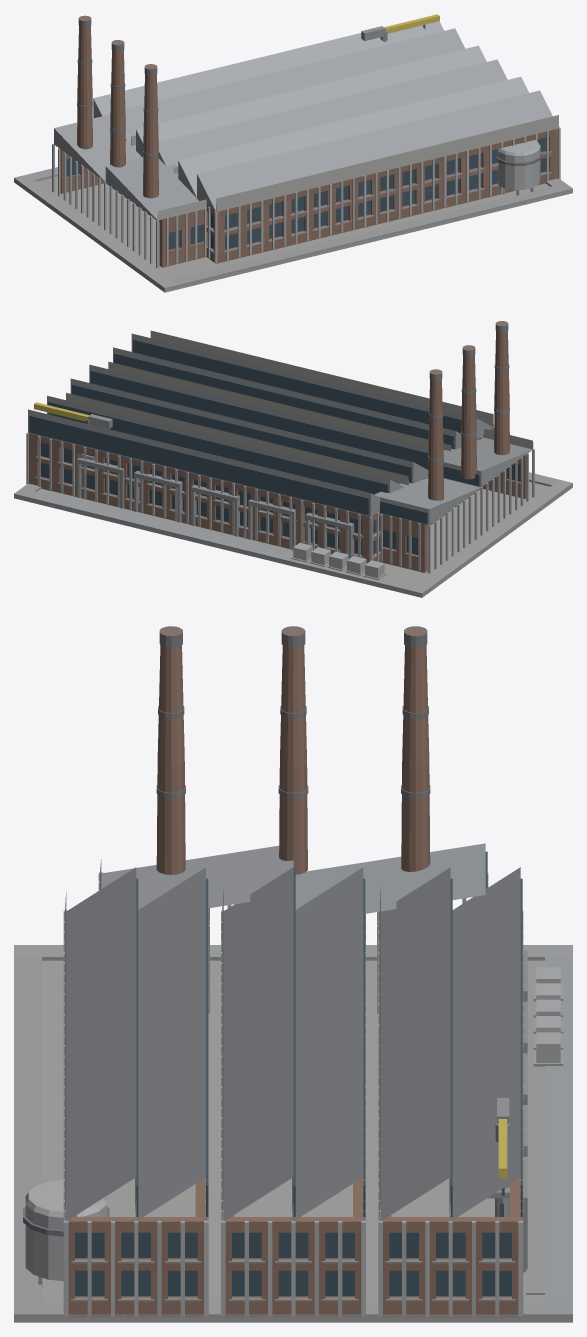
Rendered from chinese_factory.glb.
3 renders of one model, top to bottom at view 1: azimuth 30°, elevation 25°; view 2: azimuth 150°, elevation 25°; view 3: azimuth 270°, elevation 25°, orthographic. The views are drawn at different scales.
Parts seen in each view (by area): view 1: shed0_saw, shed1_saw, shed2_saw, shed0_wall, apron, apron_rim, boiler_saw, shed0_ribs, shed0_glass, boiler_ribs, boiler_wall, water_tower (+6 smaller); view 2: shed2_saw_glass, shed2_wall, shed1_saw_glass, shed2_saw, shed0_saw_glass, shed1_saw, shed0_saw, apron_rim, apron, shed2_ribs, boiler_saw, boiler_ribs (+12 smaller); view 3: shed1_saw, shed0_saw, shed2_saw, apron, apron_rim, boiler_saw, shed0_wall, shed1_wall, shed2_wall, barrel, flue_c, flue_b (+14 smaller).
Boxes of the visible parts, x1,y1,x2,y2 form: shed0_saw: (178,76,559,211); shed1_saw: (136,45,507,173); shed2_saw: (93,21,465,145); shed0_wall: (198,129,557,263); apron: (14,176,572,292); apron_rim: (14,167,572,289); boiler_saw: (54,114,206,220); shed0_ribs: (195,127,560,263); shed0_glass: (210,137,546,249); boiler_ribs: (52,143,206,268); boiler_wall: (60,149,207,267); water_tower: (496,140,541,195); shed2_saw_glass: (29,401,388,515); shed2_wall: (29,433,380,563); shed1_saw_glass: (71,370,428,483); shed2_saw: (28,392,408,516); shed0_saw_glass: (114,339,461,449); shed1_saw: (70,361,451,483); shed0_saw: (113,330,493,449); apron_rim: (14,472,572,595); apron: (14,481,572,597); shed2_ribs: (26,432,378,561); boiler_saw: (374,428,533,525); boiler_ribs: (380,449,534,573); shed1_saw: (222,867,363,1220); shed0_saw: (65,867,205,1221); shed2_saw: (379,867,520,1220); apron: (14,960,572,1322); apron_rim: (14,945,572,1317); boiler_saw: (100,843,485,913); shed0_wall: (67,1177,205,1317); shed1_wall: (225,1177,363,1317); shed2_wall: (381,1177,520,1317); barrel: (156,626,185,874); flue_c: (401,626,430,871); flue_b: (278,626,308,874).
Size of the model in its own units: 50.15 by 22.05 by 32.
